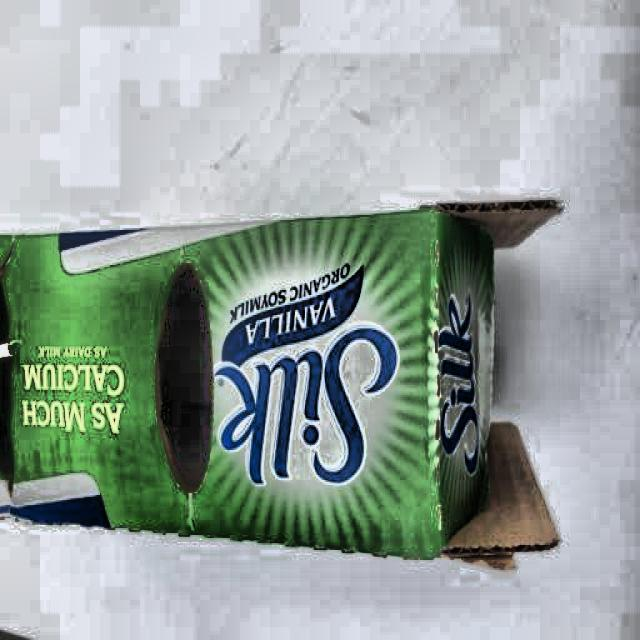cardboard: (14, 196, 567, 571)
